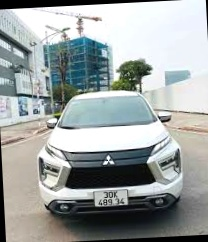Bien-so: (88, 184, 122, 201)
